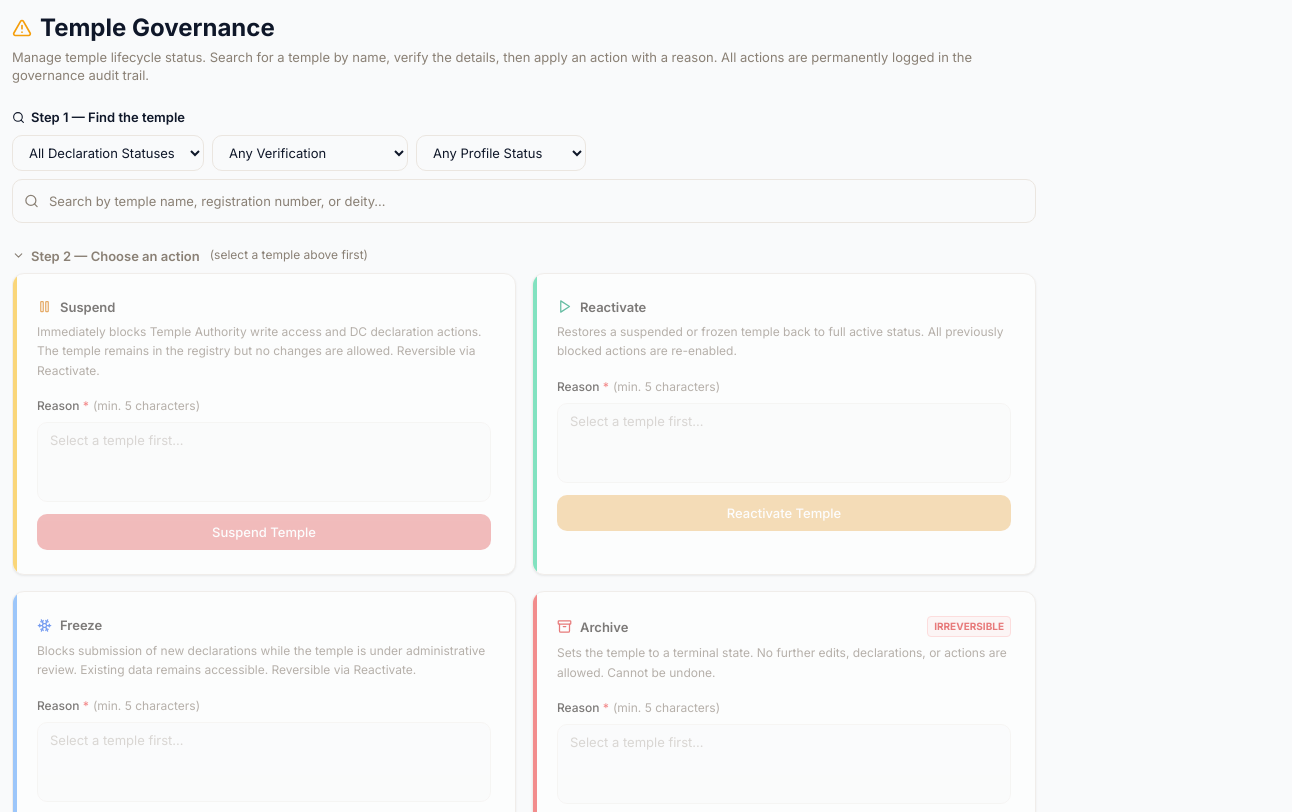
Test: TempleGovernancePage › should show grade badge for found temple
Type "Sri" into the field with placeholder "Search by temple name, registration number, or deity…" at point(524, 201), box top-left (12, 179), bottom-right (1036, 223)
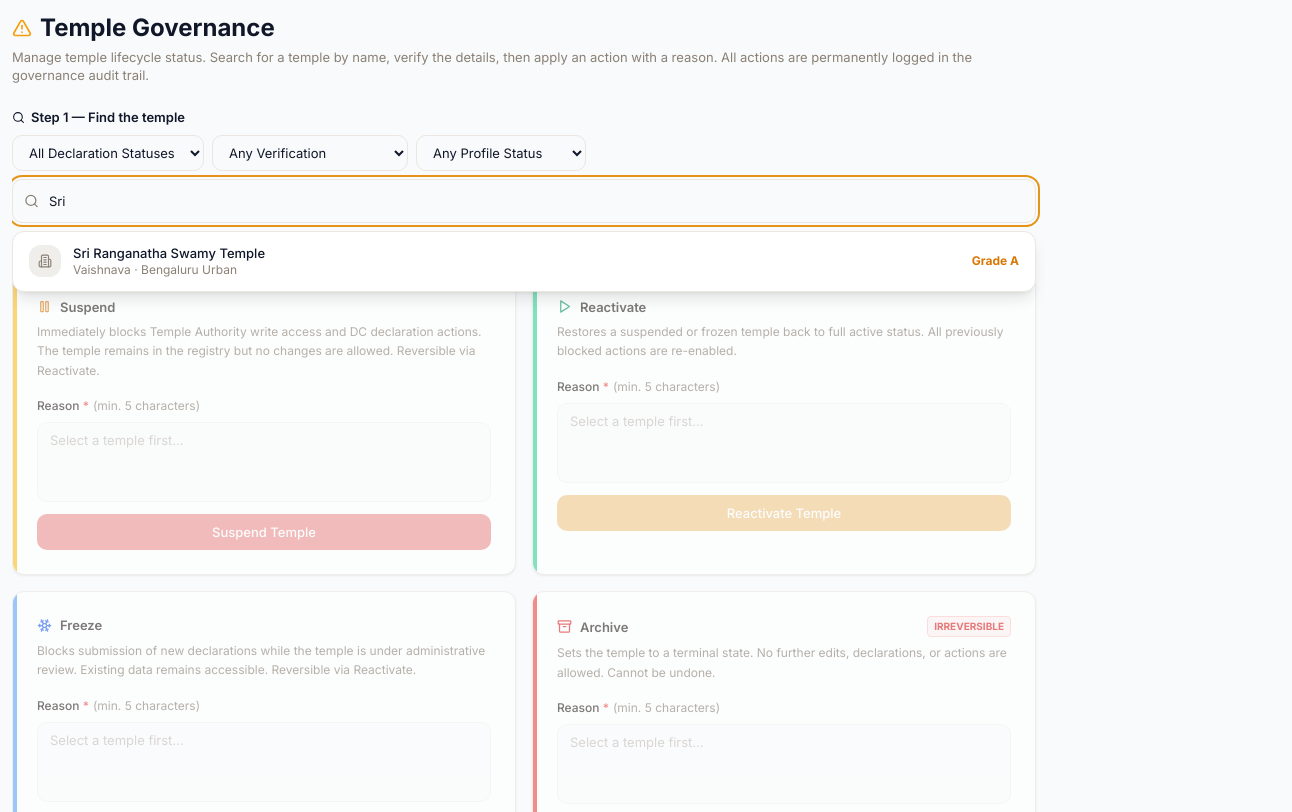
Result: the text "Sri Ranganatha Swamy Temple" is shown at top-left (73, 245), bottom-right (265, 261)
